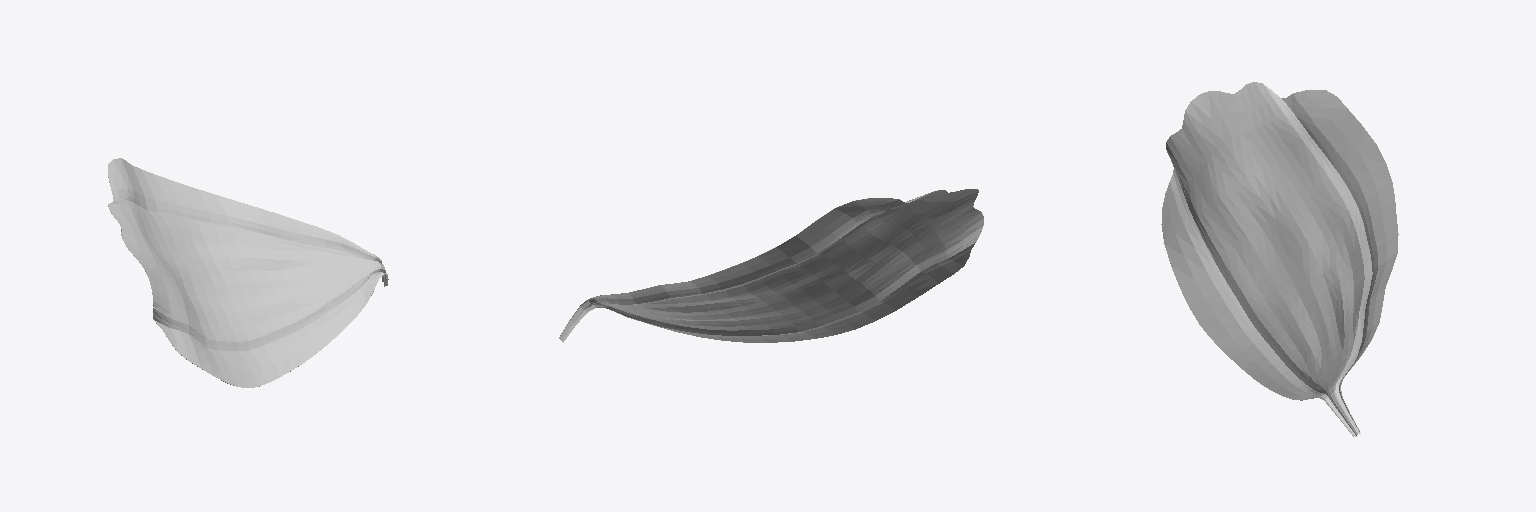
File: petal5.obj
3 views of the same model, side by side, from view 1: azimuth 30°, elevation 25°; view 2: azimuth 150°, elevation 25°; view 3: azimuth 270°, elevation 25° (orthographic).
Visible parts, largest first — view 1: facb_petal_5; view 2: facb_petal_5; view 3: facb_petal_5.
Part boxes in pixels (bbox=[...]): facb_petal_5: bbox=[108, 158, 388, 387]; facb_petal_5: bbox=[559, 189, 983, 342]; facb_petal_5: bbox=[1161, 82, 1398, 436].
Size of the model in its own units: 1.95 by 1.16 by 1.18.